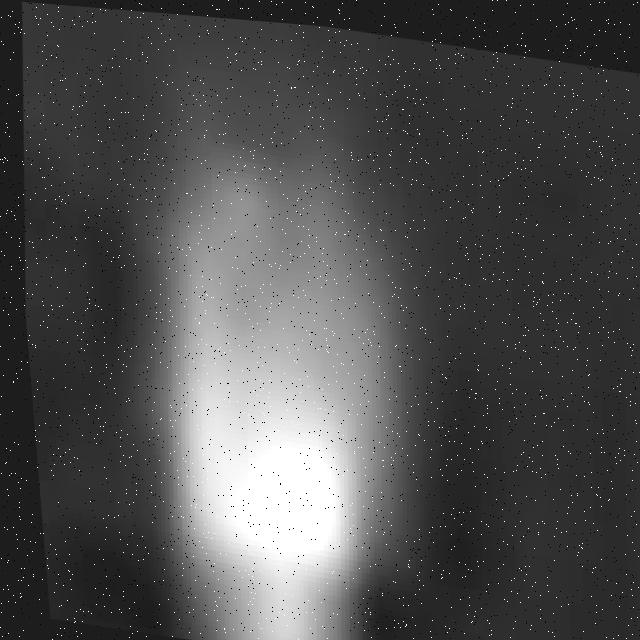person: (105, 98, 443, 640)
